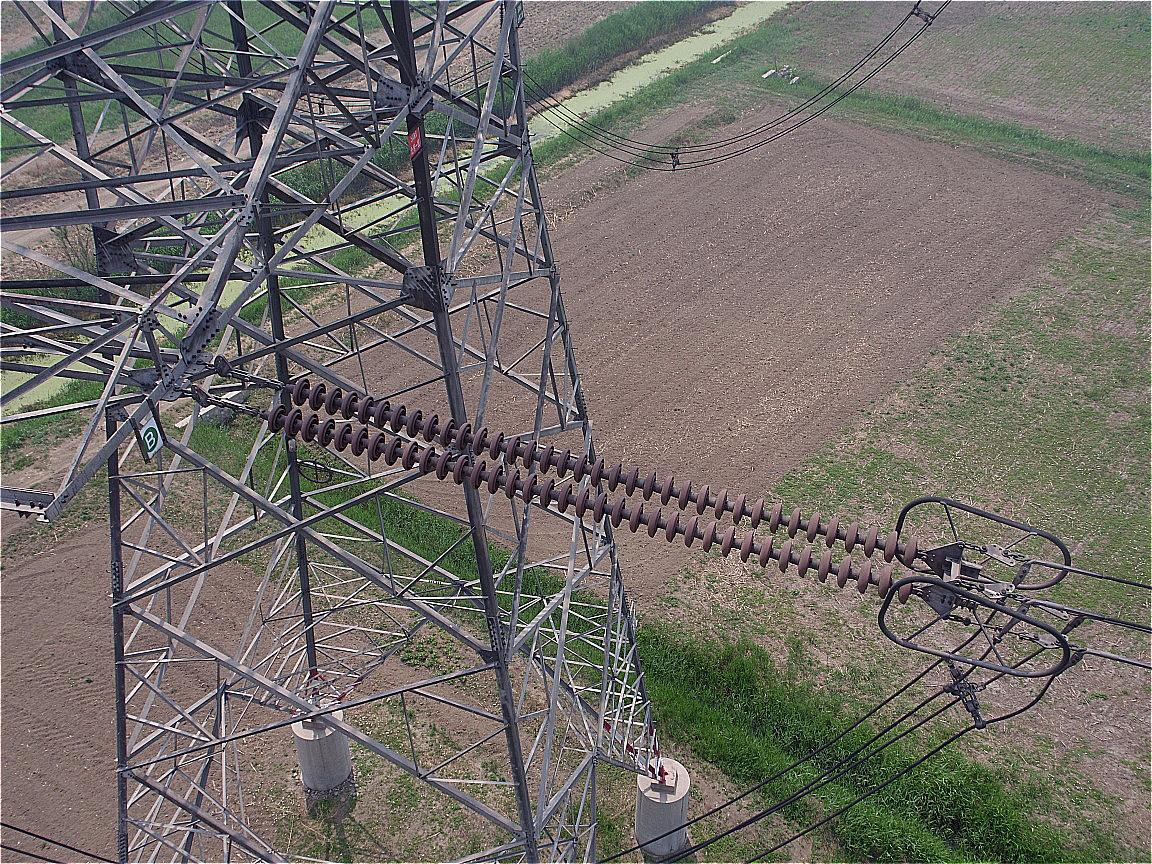insultor1: (267, 378, 919, 604)
